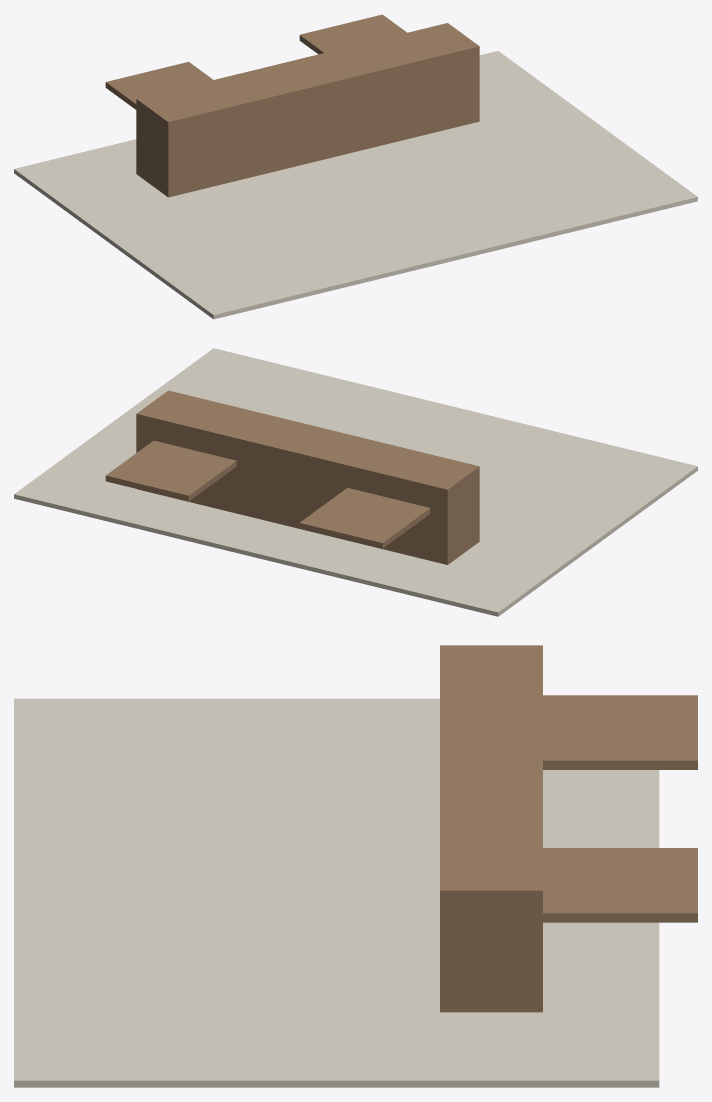
The model's file is CafeInterior.glb.
The picture shows the model from 3 angles, top to bottom: view 1: azimuth 30°, elevation 25°; view 2: azimuth 150°, elevation 25°; view 3: azimuth 270°, elevation 25°; orthographic projection. The views are drawn at different scales.
Visible parts, largest first — view 1: nervix_cafe_floor, nervix_cafe_counter, nervix_cafe_table, nervix_cafe_table2; view 2: nervix_cafe_floor, nervix_cafe_counter, nervix_cafe_table, nervix_cafe_table2; view 3: nervix_cafe_floor, nervix_cafe_counter, nervix_cafe_table, nervix_cafe_table2.
Boxes of the visible parts, left/top/right/bottom form: nervix_cafe_floor: left=14, top=51, right=697, bottom=319; nervix_cafe_counter: left=136, top=23, right=479, bottom=197; nervix_cafe_table: left=105, top=62, right=212, bottom=109; nervix_cafe_table2: left=299, top=14, right=406, bottom=54; nervix_cafe_floor: left=14, top=348, right=697, bottom=616; nervix_cafe_counter: left=136, top=390, right=479, bottom=564; nervix_cafe_table: left=299, top=488, right=430, bottom=548; nervix_cafe_table2: left=105, top=440, right=236, bottom=501; nervix_cafe_floor: left=14, top=698, right=659, bottom=1087; nervix_cafe_counter: left=440, top=645, right=542, bottom=1012; nervix_cafe_table: left=543, top=695, right=697, bottom=769; nervix_cafe_table2: left=543, top=848, right=697, bottom=922.
Size of the model in its own units: 7 by 1.1 by 5.3.
